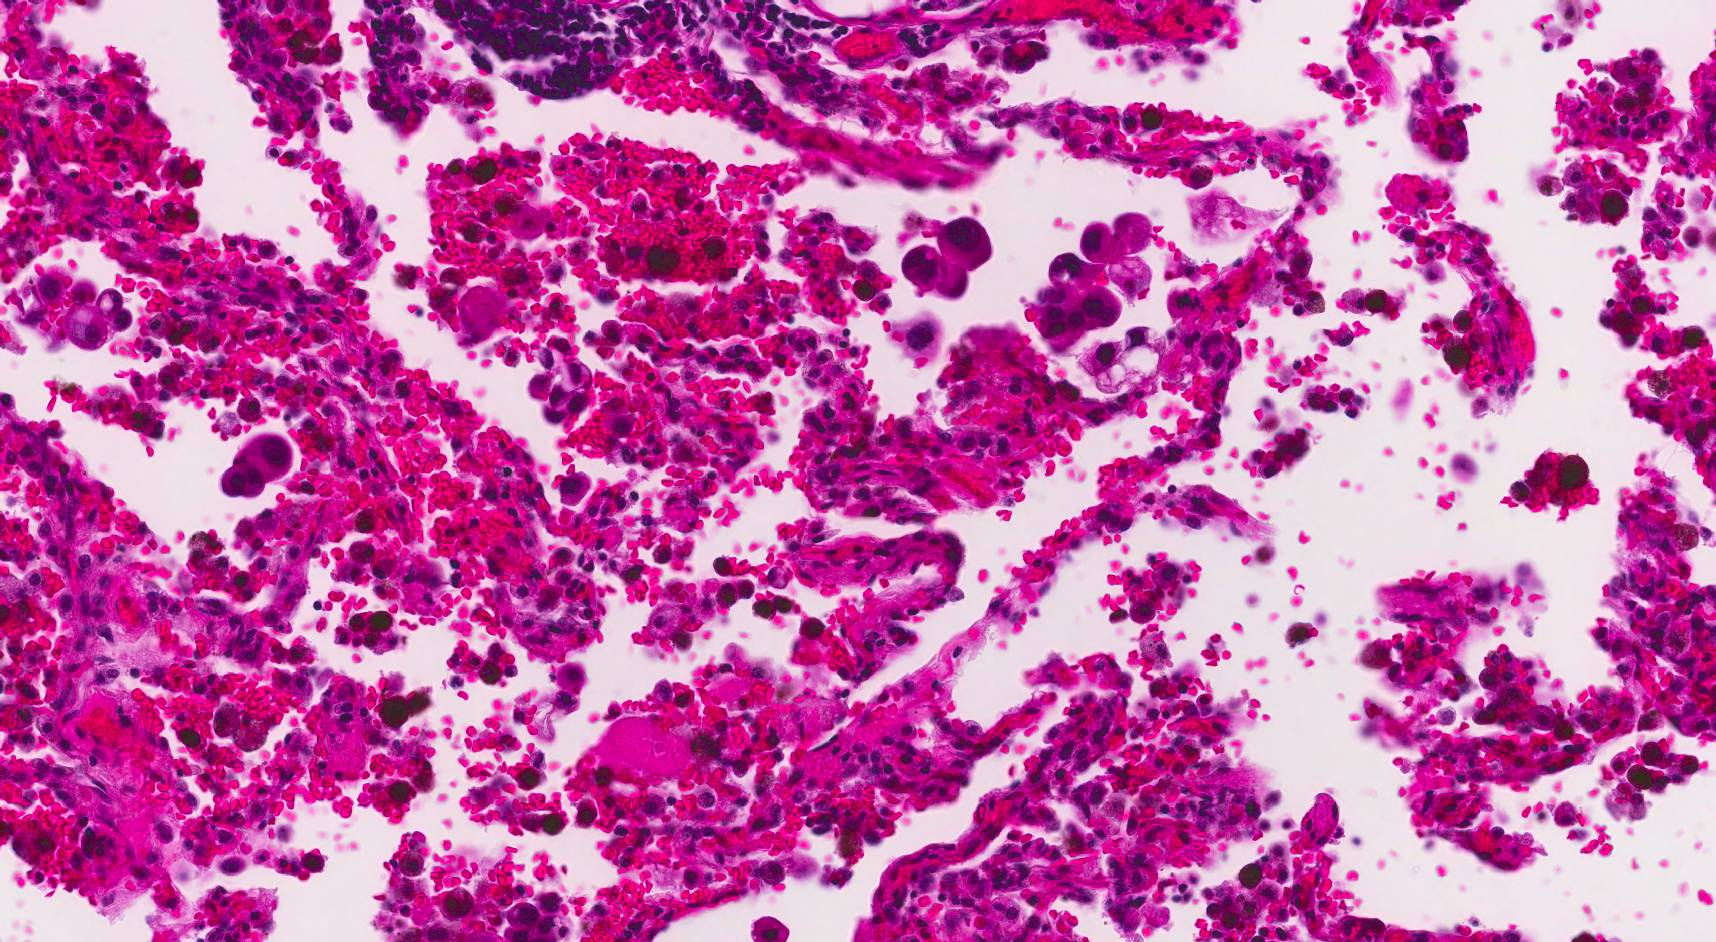stas: (1027, 211, 1160, 348), (896, 214, 1001, 301), (20, 272, 132, 349), (217, 426, 291, 498), (1078, 328, 1156, 394)
